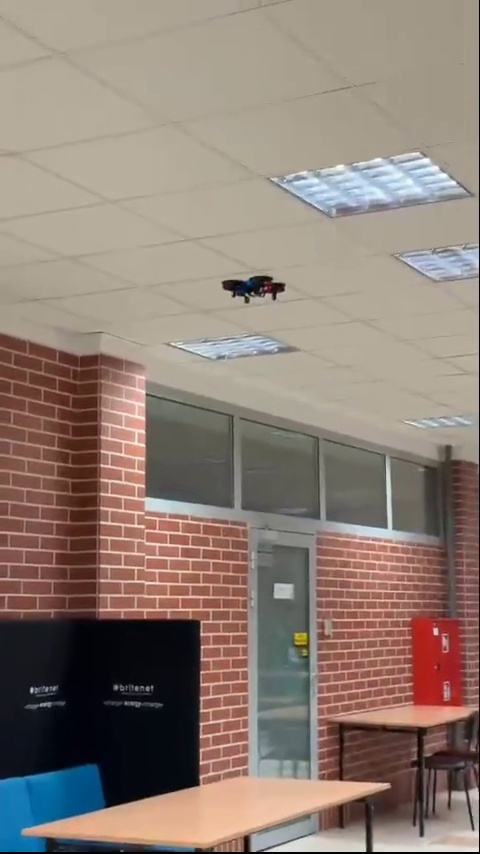drone: (221, 273, 291, 305)
